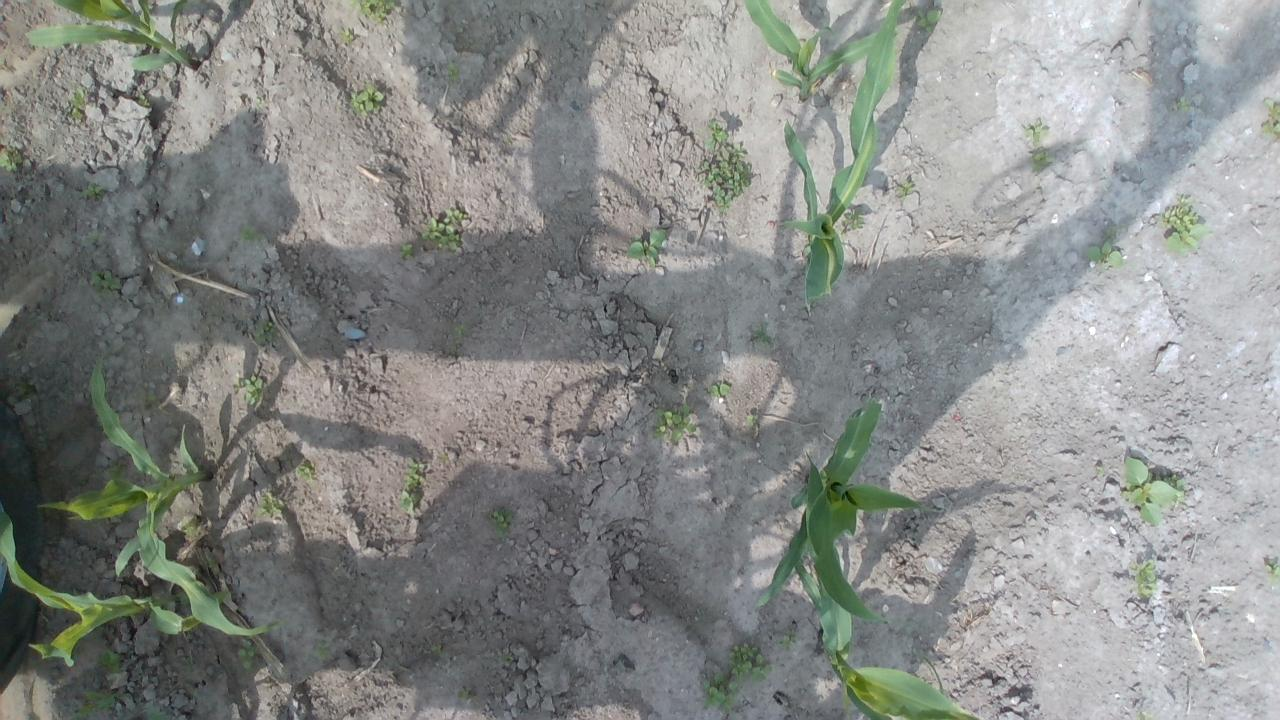Maize: (35, 341, 288, 636), (756, 398, 942, 628), (777, 0, 908, 315), (0, 506, 226, 666), (791, 554, 988, 720), (742, 0, 898, 102), (24, 0, 200, 74)
Weeds: (698, 642, 771, 714), (698, 118, 752, 214), (1120, 456, 1186, 526), (1152, 192, 1212, 256), (420, 205, 467, 251), (652, 404, 698, 446), (68, 688, 124, 720), (396, 460, 427, 516), (624, 226, 666, 266), (1024, 117, 1054, 172), (1083, 239, 1125, 273), (1129, 559, 1159, 600), (88, 269, 125, 302), (348, 84, 384, 116), (232, 374, 264, 406), (350, 0, 394, 23), (92, 647, 126, 676), (486, 506, 514, 538), (255, 491, 285, 520), (840, 207, 866, 238), (1260, 98, 1280, 138), (252, 318, 280, 344), (238, 638, 260, 671), (916, 8, 942, 34), (0, 144, 22, 172), (68, 87, 86, 120), (236, 222, 262, 243), (752, 322, 772, 347), (296, 462, 318, 484), (778, 629, 799, 652), (134, 384, 158, 404), (79, 182, 105, 200), (313, 640, 334, 662), (1264, 558, 1280, 586), (142, 703, 168, 720), (178, 514, 198, 536), (446, 60, 462, 86), (706, 380, 730, 397), (1172, 95, 1192, 114), (896, 179, 914, 199), (105, 466, 128, 480), (398, 243, 414, 261), (450, 323, 468, 338), (340, 27, 354, 44), (85, 230, 101, 244), (746, 412, 759, 428), (136, 94, 150, 107), (1136, 710, 1154, 720), (431, 644, 443, 656), (1104, 226, 1117, 237), (500, 653, 514, 663), (457, 688, 468, 700), (206, 554, 216, 567), (1095, 465, 1104, 475), (255, 98, 264, 105), (0, 58, 4, 66)
